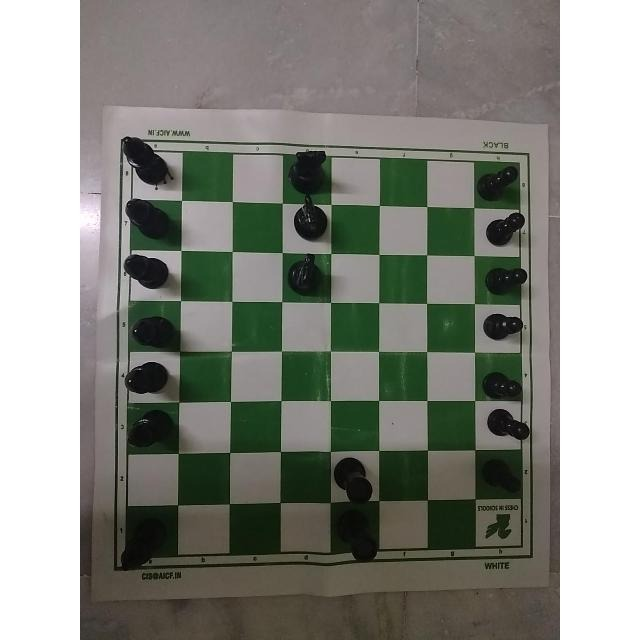black-bishop: (111, 508, 171, 577), (120, 195, 180, 245), (119, 133, 171, 188), (118, 357, 172, 405), (121, 251, 177, 295), (123, 408, 174, 455), (121, 310, 172, 356)
black-knight: (281, 142, 336, 196), (283, 196, 345, 243), (282, 252, 338, 304)
black-pawn: (479, 204, 535, 251), (482, 256, 540, 300), (477, 306, 543, 342), (480, 357, 527, 404), (478, 455, 526, 499), (483, 408, 535, 448), (479, 156, 521, 202)
black-rook: (334, 507, 385, 568), (333, 450, 377, 504)
